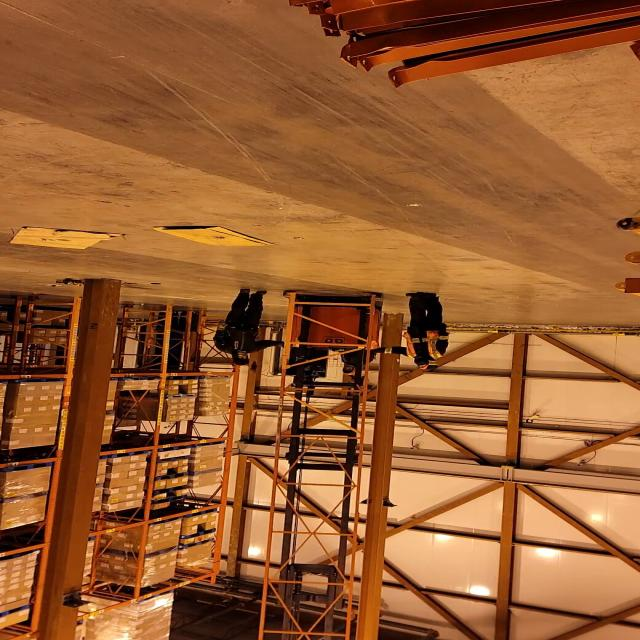forklift: (274, 286, 389, 469)
human: (368, 291, 454, 372), (211, 287, 287, 366), (331, 349, 381, 377)
objectofinterest: (269, 280, 380, 591), (140, 222, 272, 252), (6, 223, 121, 256)
